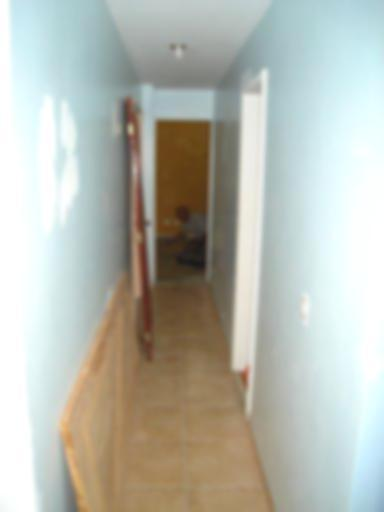Otro Obstaculo: (59, 266, 130, 508), (124, 97, 159, 361)
